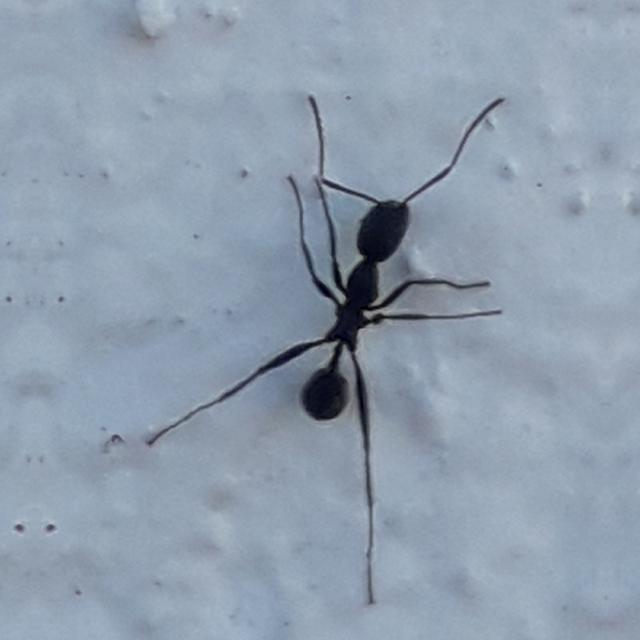Apheanogaster: (242, 122, 473, 468)
